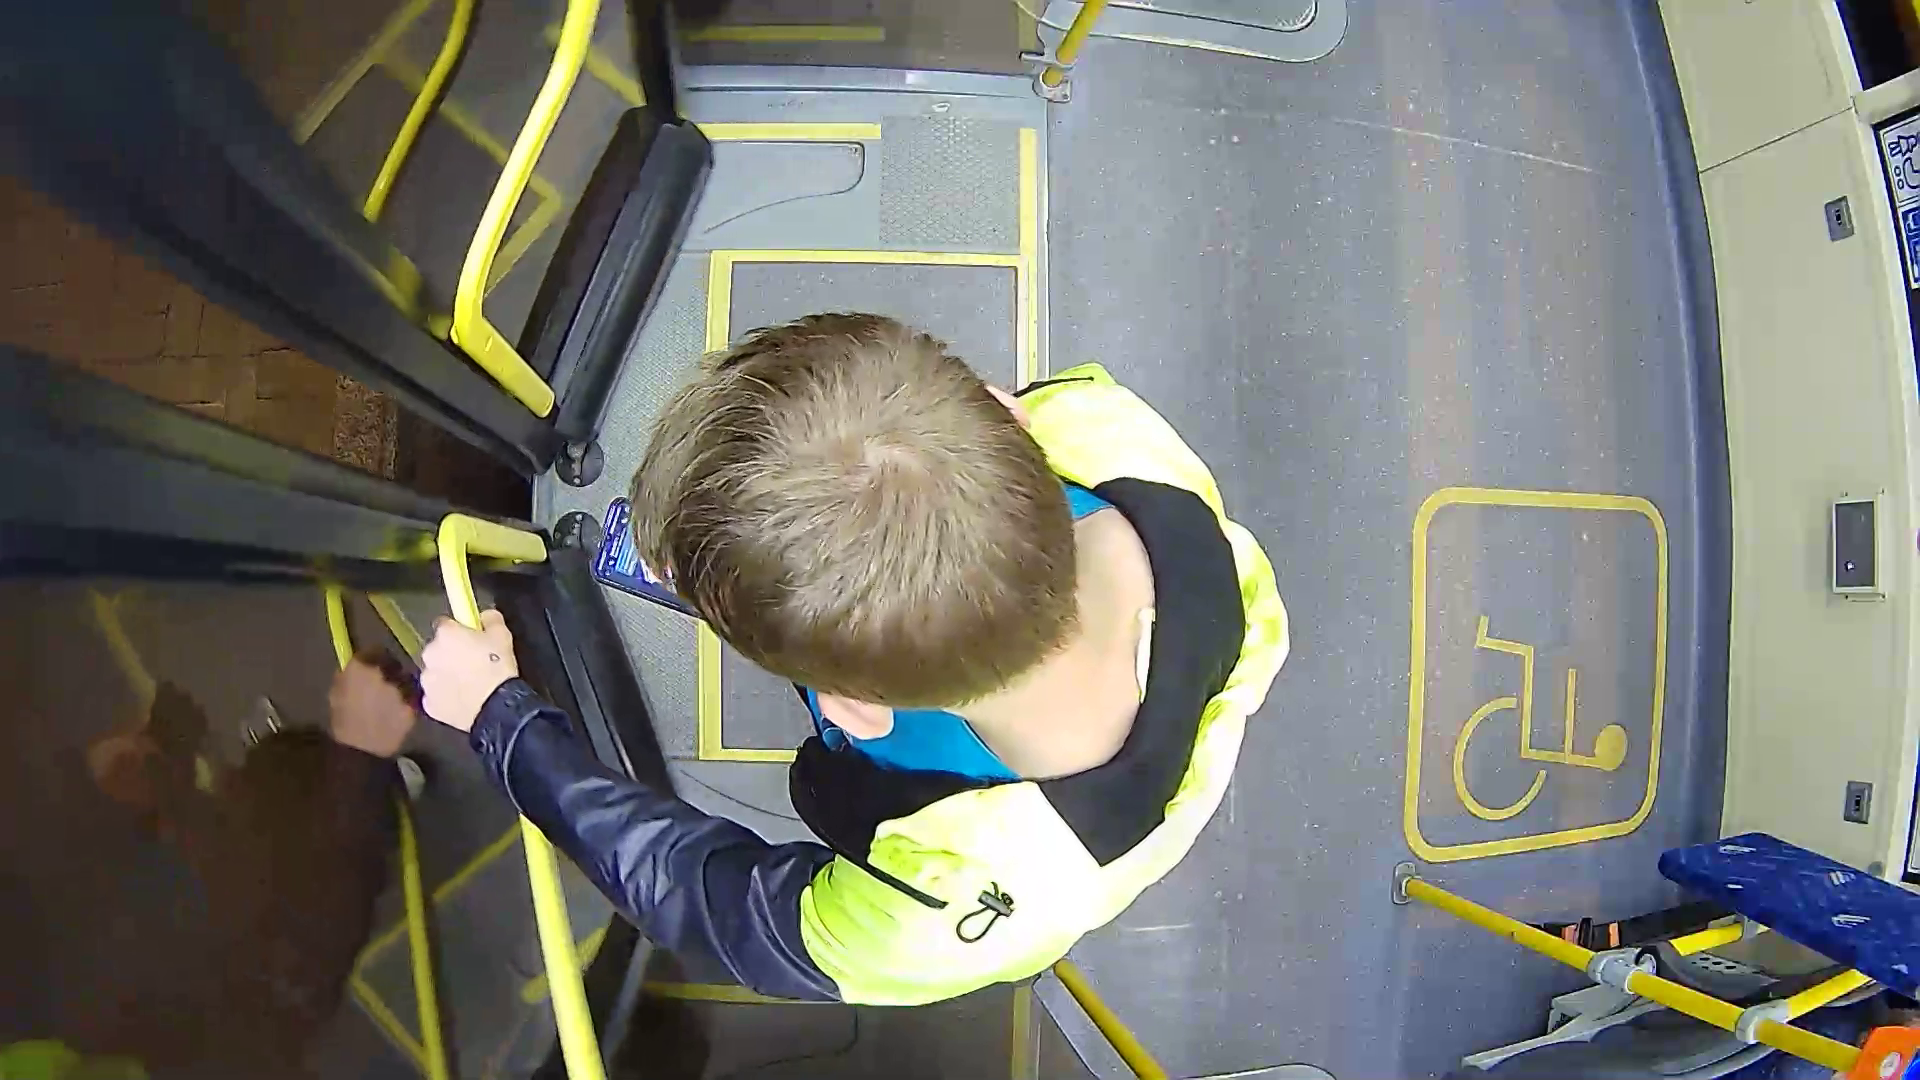person: (464, 336, 1324, 981)
